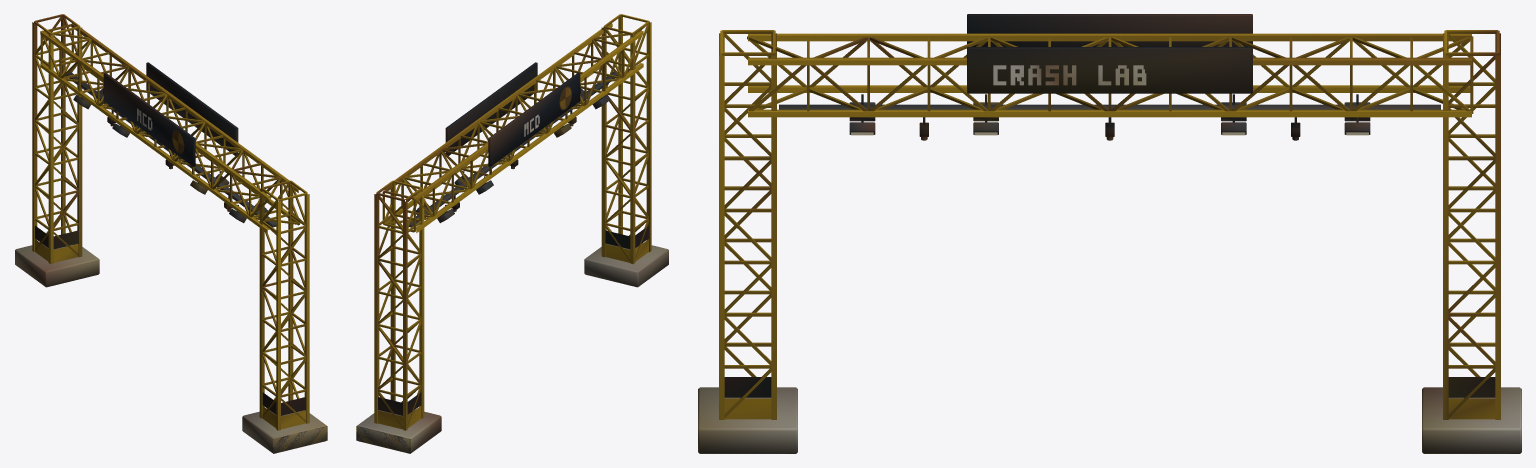
Rendered from crash_gantry.glb.
The picture shows the model from 3 angles, left to right: view 1: azimuth 30°, elevation 25°; view 2: azimuth 150°, elevation 25°; view 3: azimuth 270°, elevation 25°; orthographic projection. The views are drawn at different scales.
Visible parts, largest first — view 1: CrashGantry; view 2: CrashGantry; view 3: CrashGantry.
Boxes of the visible parts, x1=… form: CrashGantry: x1=15, y1=14, x2=327, y2=453; CrashGantry: x1=356, y1=14, x2=668, y2=453; CrashGantry: x1=698, y1=14, x2=1521, y2=453.
Size of the model in its own units: 2.1 by 9.32 by 17.3.
